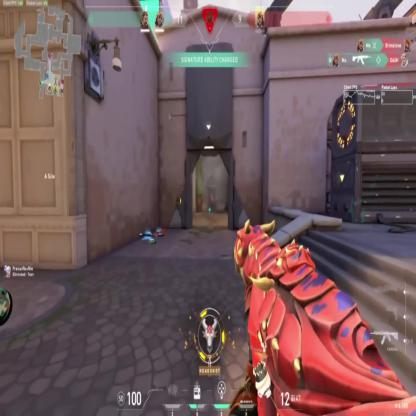enemy: (209, 193, 214, 211)
enemy_head: (210, 194, 213, 199)
